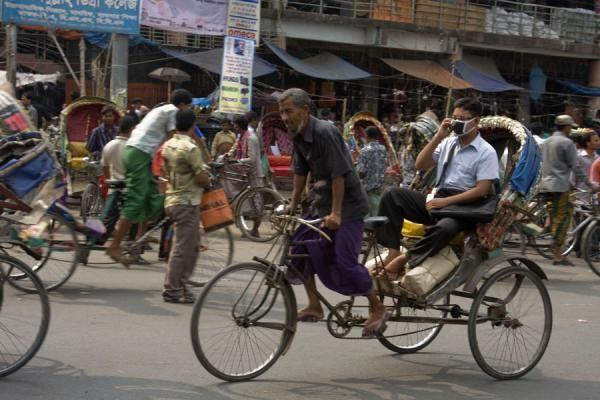Rickshaw: (374, 117, 551, 378), (0, 91, 61, 376), (188, 122, 289, 245), (59, 96, 122, 219), (59, 96, 122, 176), (343, 111, 400, 183), (398, 111, 438, 185), (257, 112, 292, 181)
